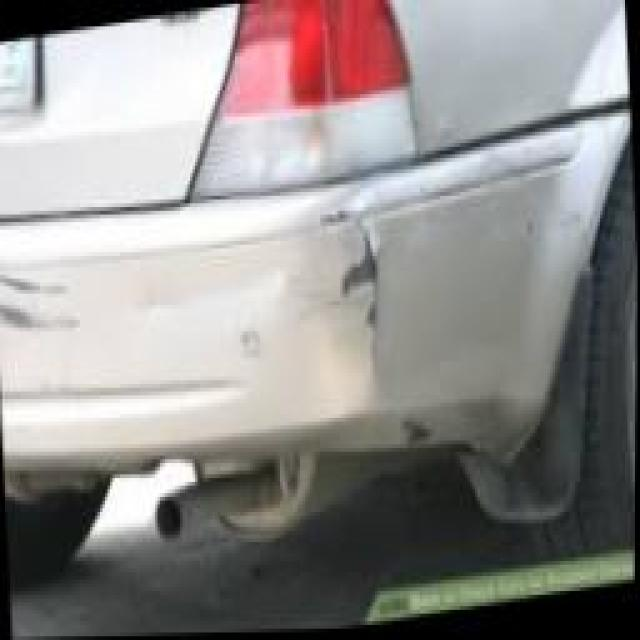Bumper: (0, 118, 629, 517)
Fender: (390, 0, 629, 158)
